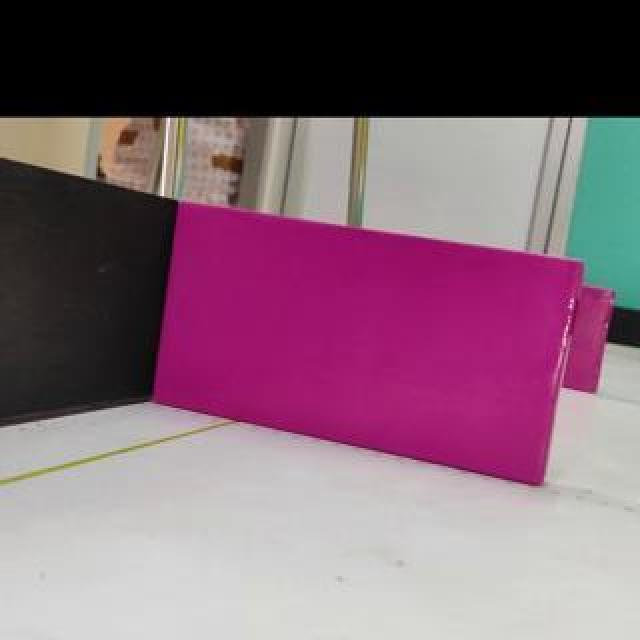xparking: (153, 202, 581, 490), (567, 289, 614, 390)
